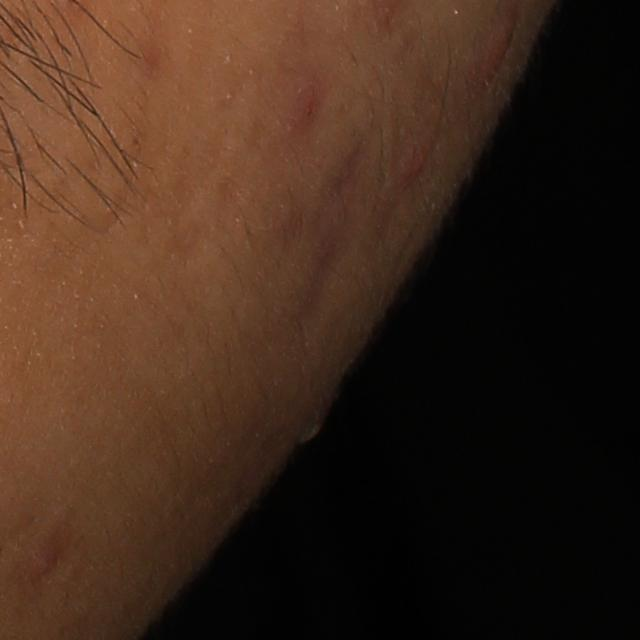atrophic_scar: (308, 144, 362, 311)
papule: (398, 114, 436, 194), (290, 402, 333, 450), (21, 529, 62, 578)
